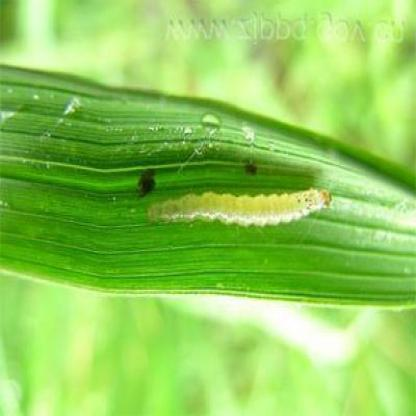leaf-folder: (134, 167, 336, 264)
